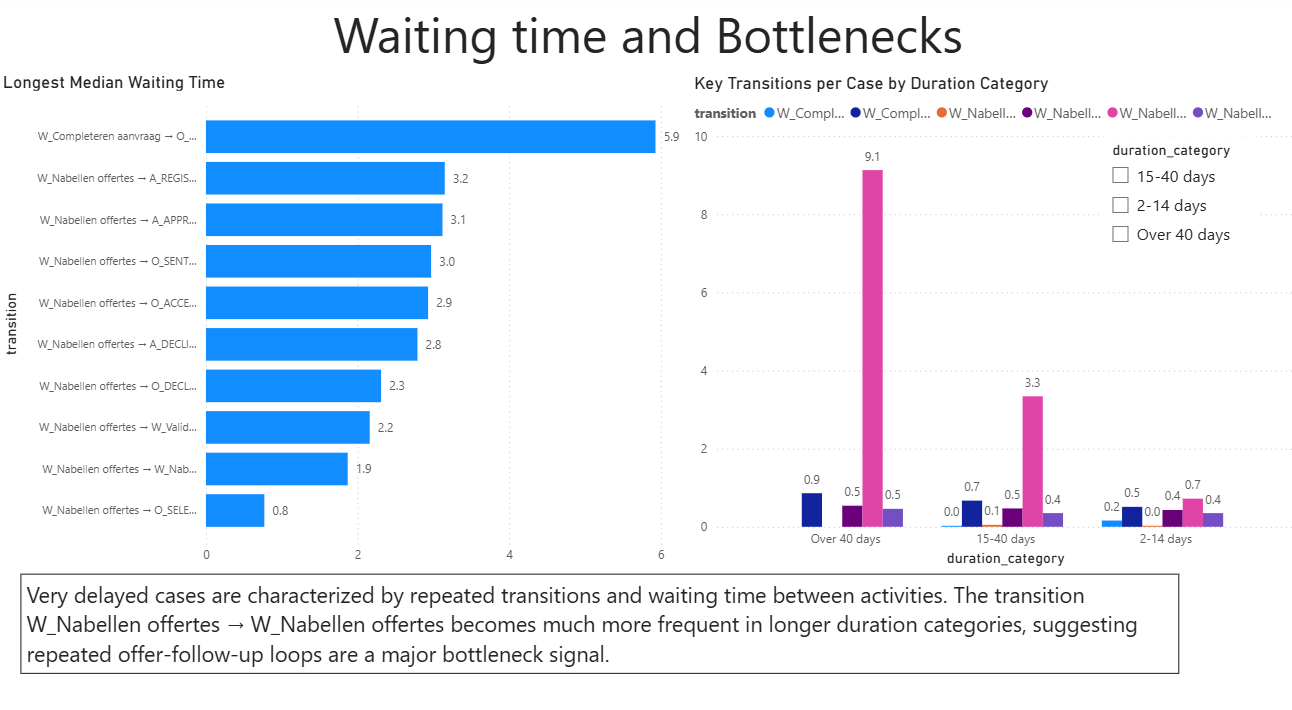

The page's visual inventory and layout, read from the dashboard file:
{"tool":"powerbi","page":{"name":"Waiting Time","canvas":[1280,720],"ordinal":2},"visuals":[{"type":"textbox","box":[316.1,0,646.9,75],"z":0},{"type":"clusteredBarChart","title":"Longest Median Waiting Time","fields":{"Category":["waiting_time_summary.transition"],"Y":["Sum(waiting_time_summary.median_wait_days)"]},"box":[0,75,680.1,494.4],"z":1},{"type":"clusteredColumnChart","title":"Key Transitions per Case by Duration Category","fields":{"Category":["key_transition_comparison.duration_category"],"Y":["Sum(key_transition_comparison.transitions_per_case)"],"Series":["key_transition_comparison.transition"]},"box":[680.1,76.2,600.2,490.7],"z":2},{"type":"slicer","fields":{"Values":["key_transition_comparison.duration_category"]},"box":[1083.5,139,156.2,116.8],"z":3},{"type":"textbox","box":[22.1,569.4,1140,98.4],"z":4}]}

Visuals, with their boxes in screenshot pixels (x1, y1, x2, y2), scaled from the page's 1280x720 canvas onto the 1292x710 screenshot:
textbox: [319, 0, 972, 74]
"Longest Median Waiting Time" clusteredBarChart: [0, 74, 686, 561]
"Key Transitions per Case by Duration Category" clusteredColumnChart: [686, 75, 1291, 559]
slicer - key_transition_comparison.duration_category: [1094, 137, 1251, 252]
textbox: [22, 561, 1173, 659]
